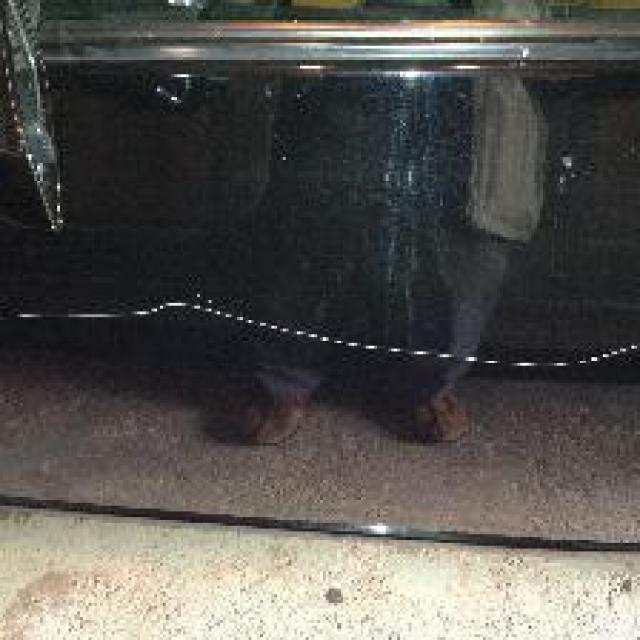damaged: (14, 297, 637, 380)
